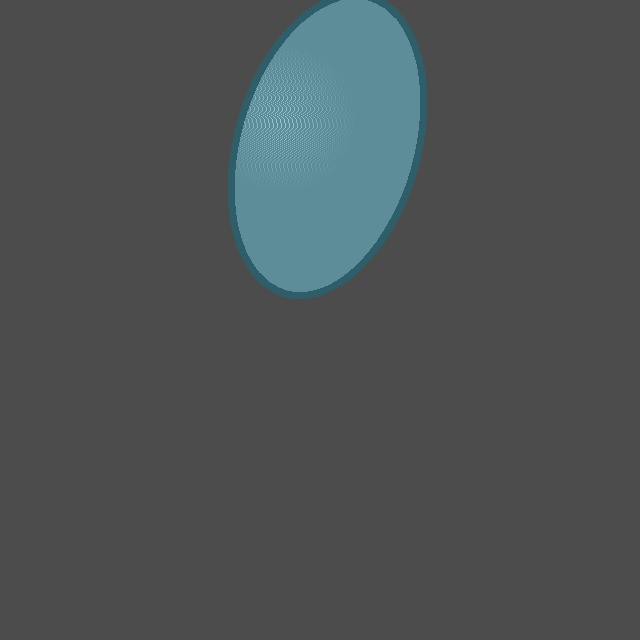lens: (231, 0, 423, 294)
